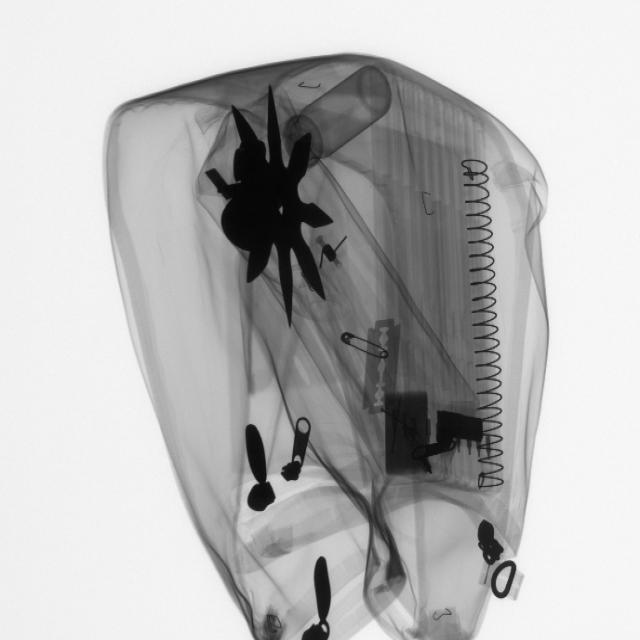BLADE: (357, 312, 412, 424)
SHURIKEN: (207, 79, 331, 325)
